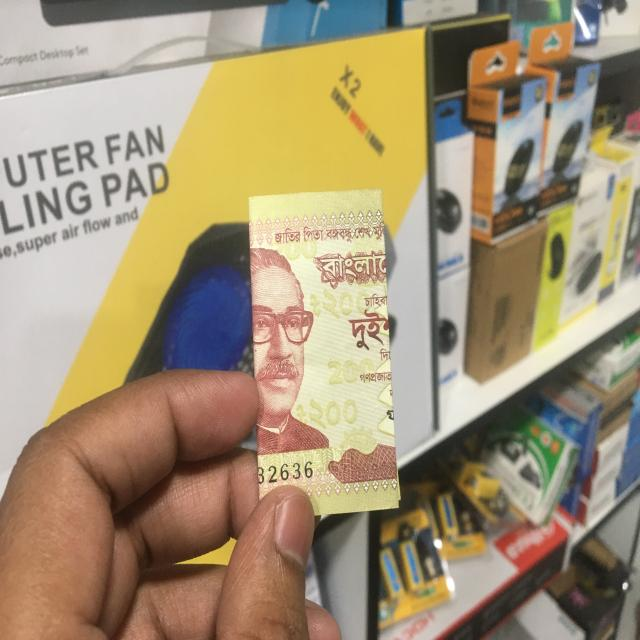Taka: (248, 196, 398, 506)
